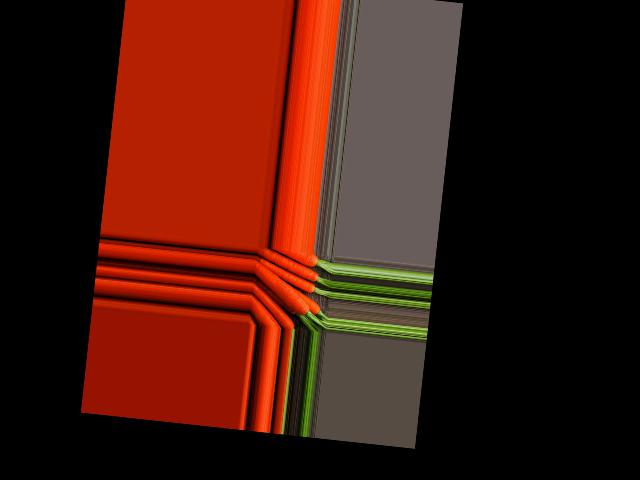carrot: (248, 287, 297, 328)
